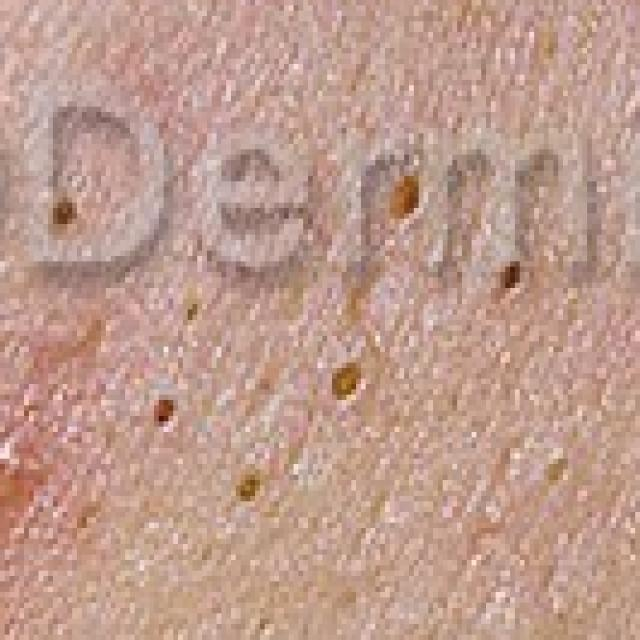blackhead: (388, 170, 424, 220), (151, 391, 182, 431), (47, 197, 82, 230), (333, 359, 361, 400), (232, 474, 265, 506), (502, 260, 522, 292), (180, 298, 200, 328), (73, 514, 91, 531), (258, 616, 272, 632)
